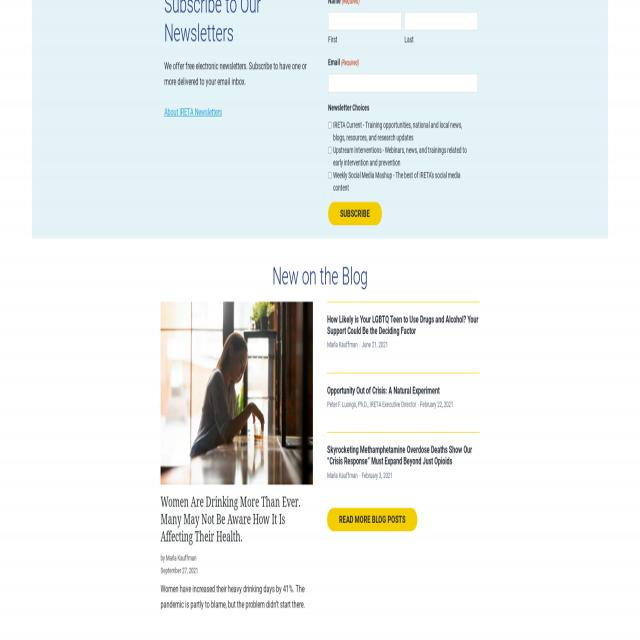button: (161, 302, 313, 485), (327, 508, 417, 531), (328, 202, 382, 226)
field: (328, 74, 478, 92), (328, 12, 402, 30), (404, 12, 478, 30), (328, 122, 332, 128), (328, 148, 332, 154), (328, 172, 332, 178)
